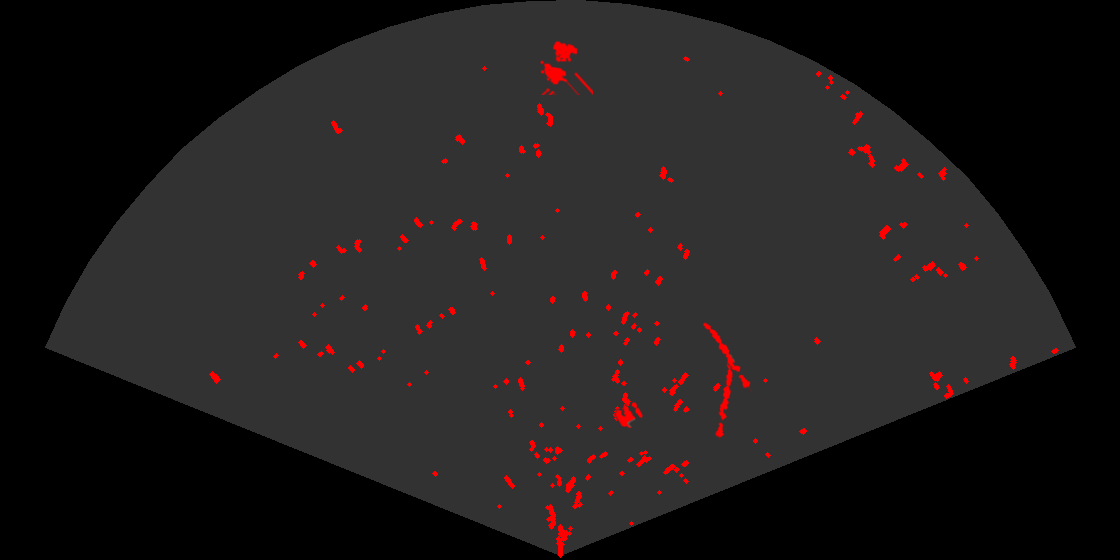ball: (614, 400, 644, 430)
cage: (539, 39, 593, 95)
chain: (701, 321, 754, 393), (714, 358, 735, 441)
